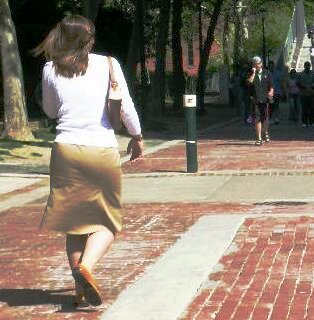person: (29, 13, 148, 306)
